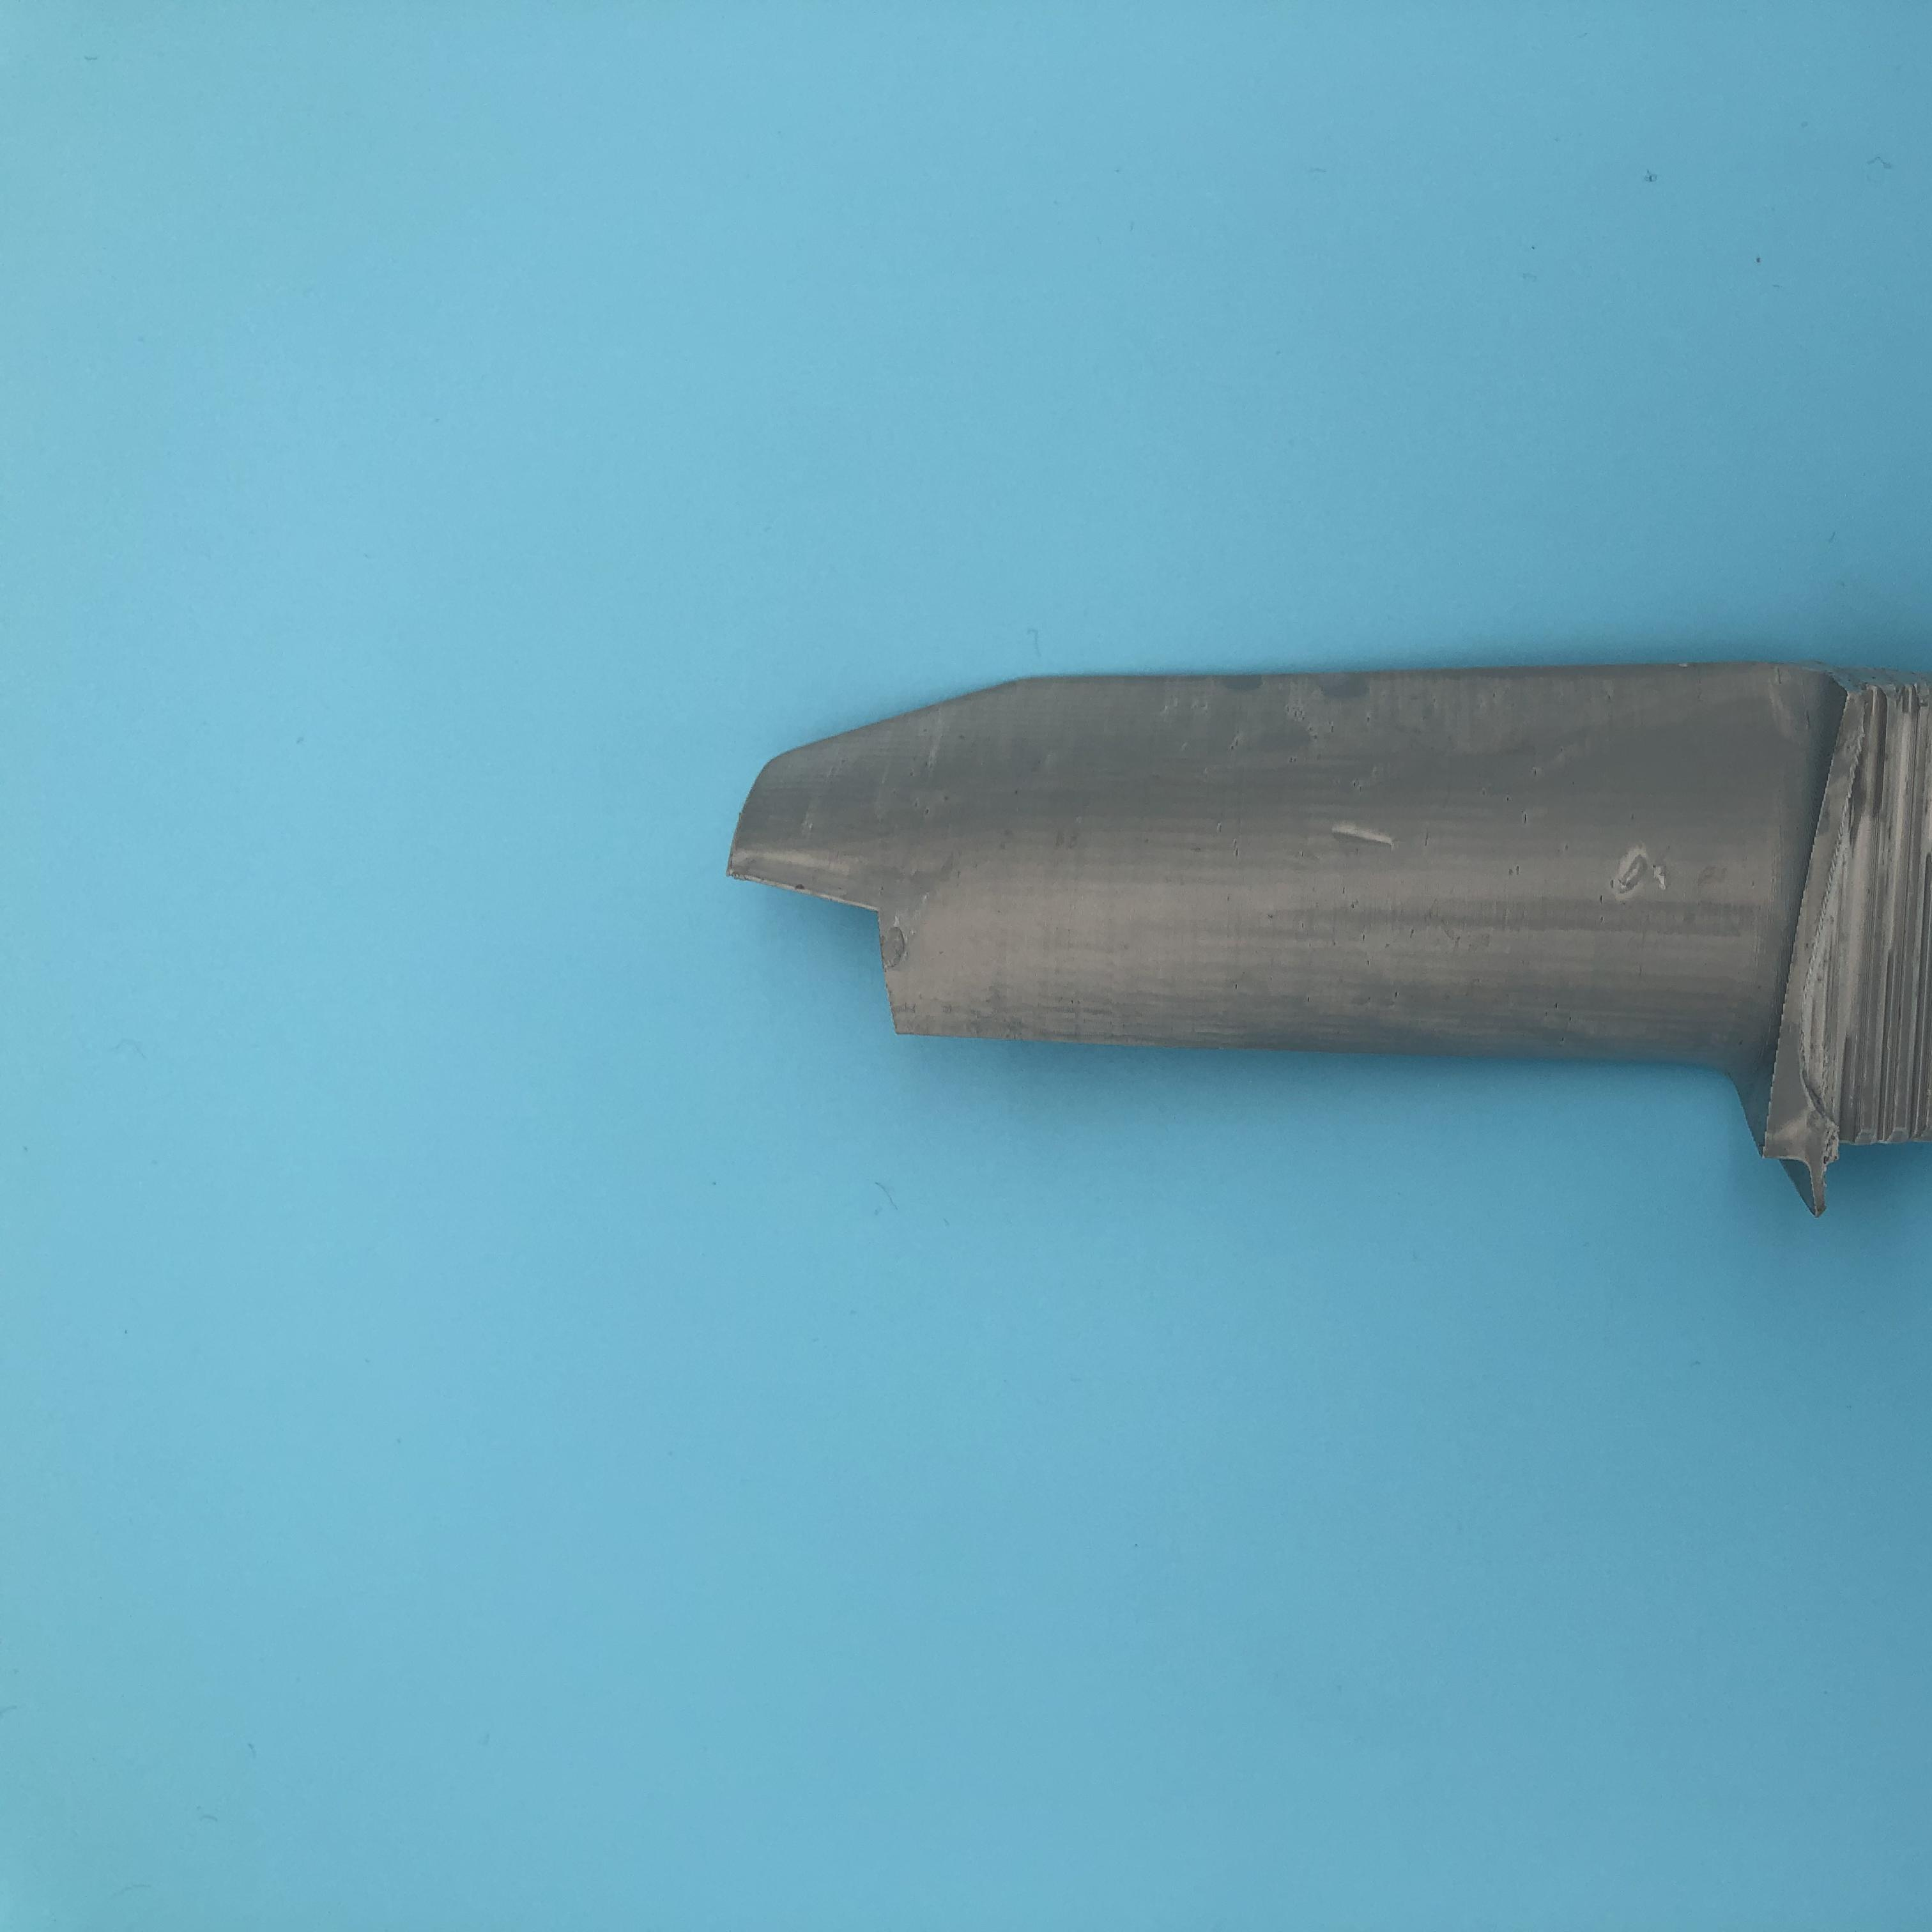fracture: (734, 849, 947, 1037)
